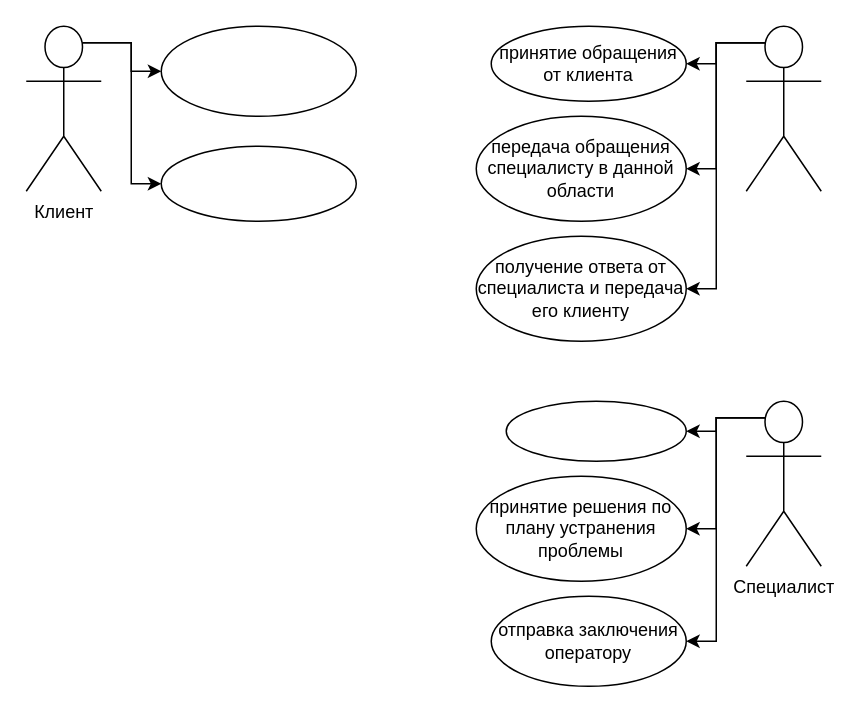
This 860x713 diagram has some shape labels left out. Here are the shapes that lost their labels. From the top down, the centre of each, then its label:
At pixel 258 70: "обращение в организацию через оператора".
At pixel 783 108: "Оператор".
At pixel 258 183: "получение ответа на обращение".
At pixel 595 430: "рассмотрение обращения".
